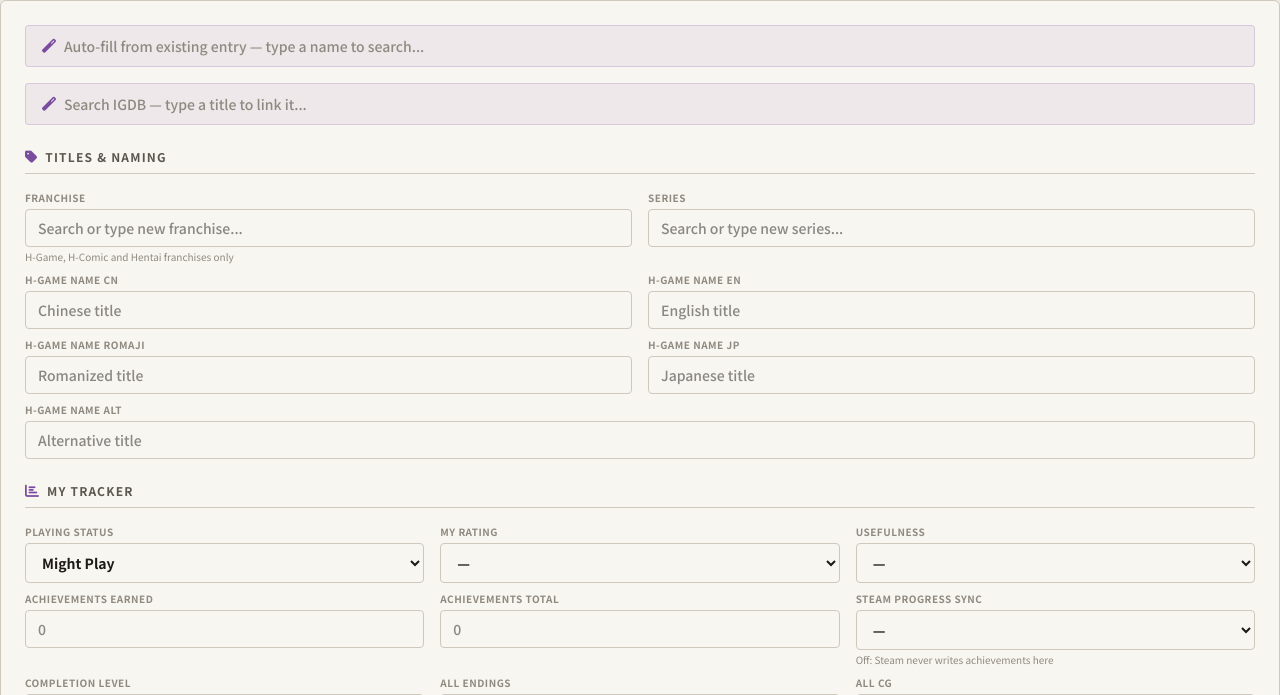
Test: HGameAddTab › offers the restricted family's franchises and no mainstream one
Click the dropdown with placeholder "Search or type new franchise..." at (328, 228), box [25, 209, 632, 247]
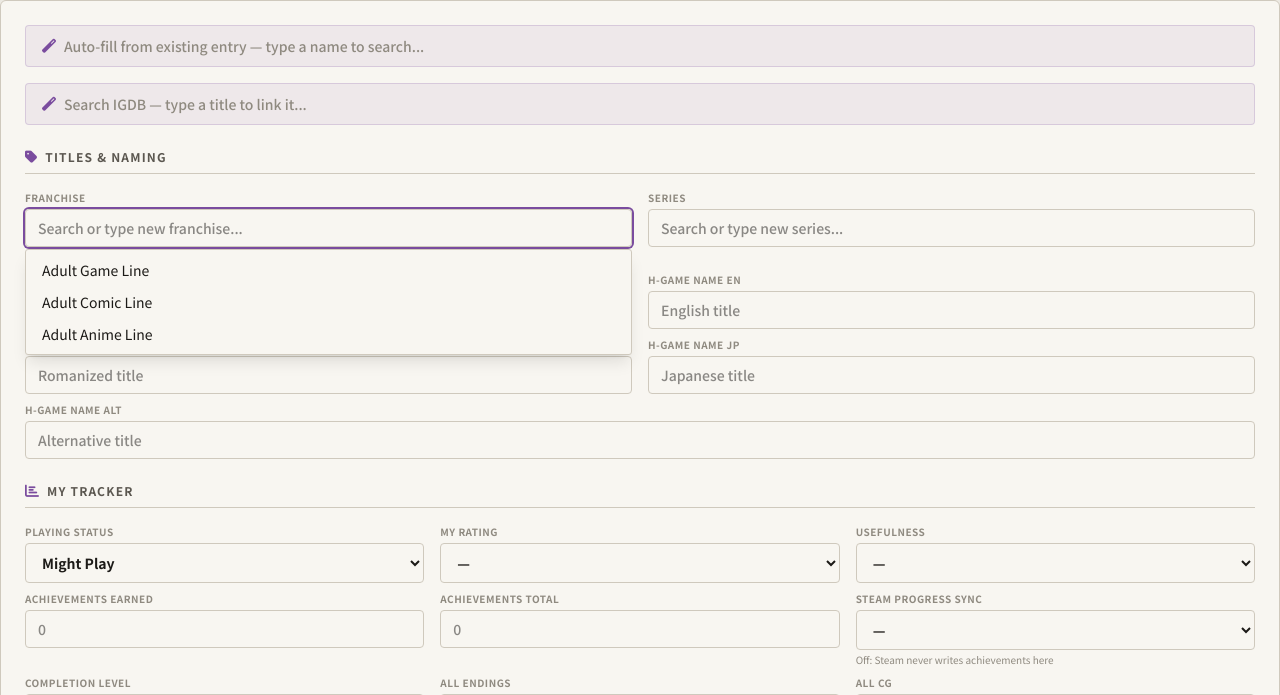
Expected: the option "Adult Game Line" is shown, [42, 260, 149, 280]
Expected: the option "Adult Comic Line" is shown, [42, 292, 152, 312]
Expected: the option "Adult Anime Line" is shown, [42, 324, 153, 344]
